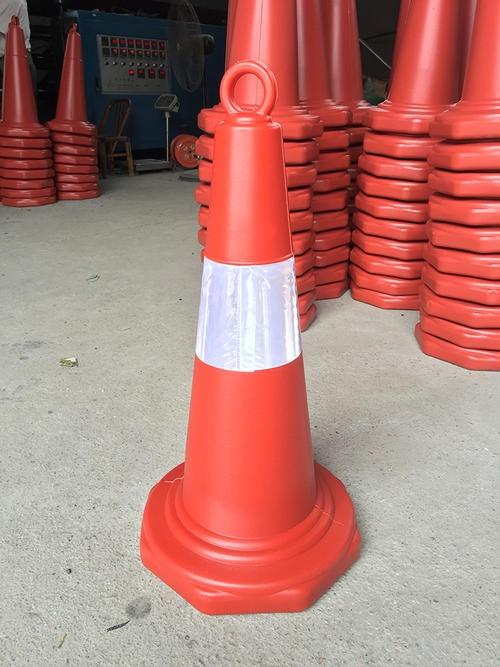cone_barrel: (157, 69, 342, 592), (47, 26, 91, 131)
